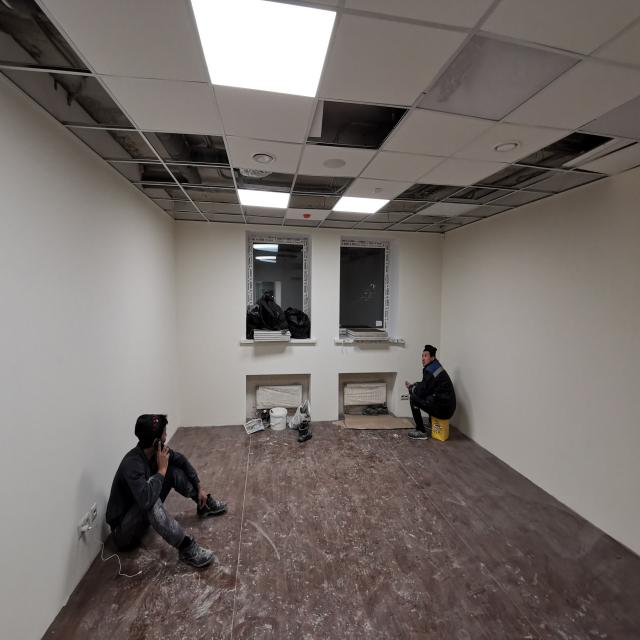NoHelmet: (135, 412, 170, 453), (421, 345, 439, 368)
